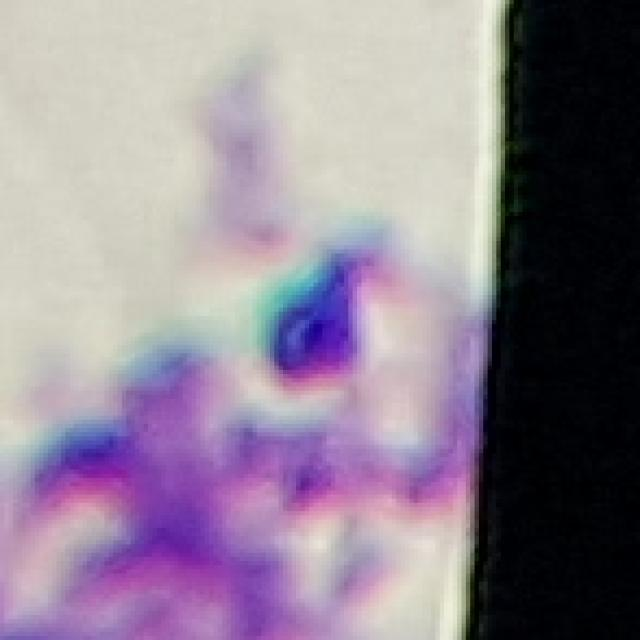non-sperm: (204, 232, 423, 608)
